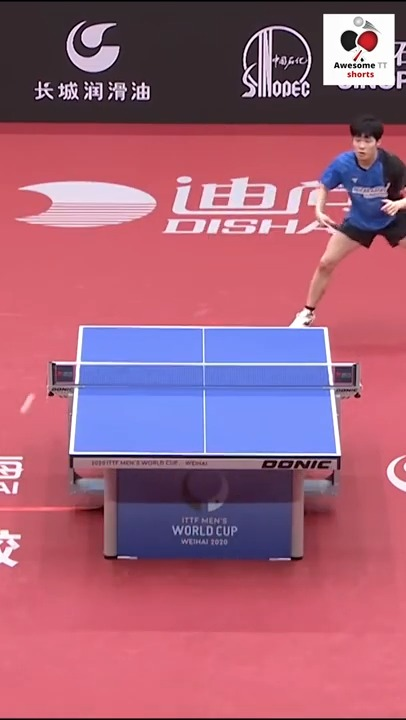Ball: (18, 386, 33, 412)
